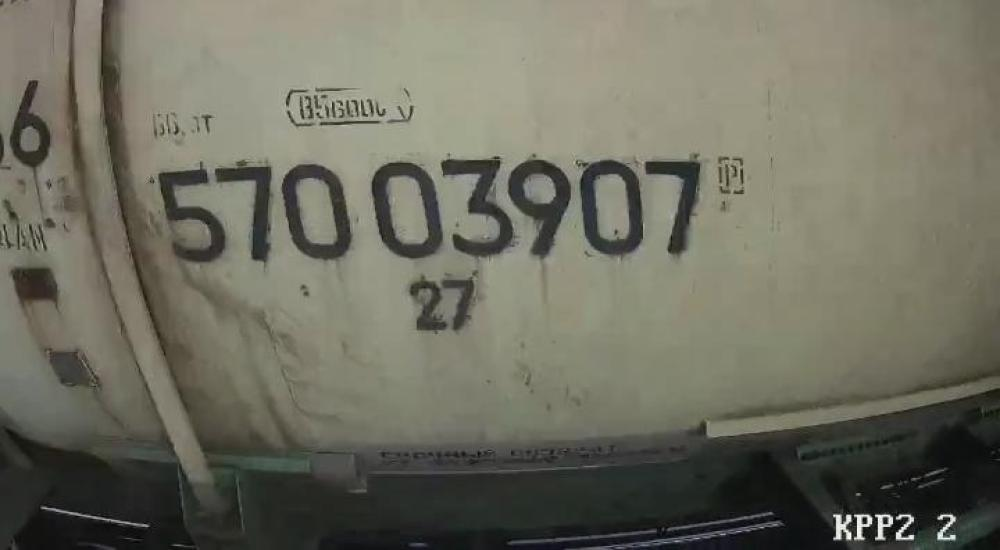Wagon-number: (152, 154, 711, 270)
